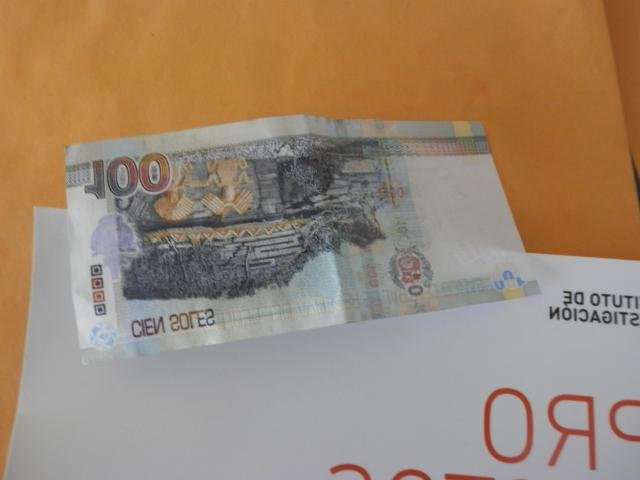B100: (64, 118, 540, 362)
